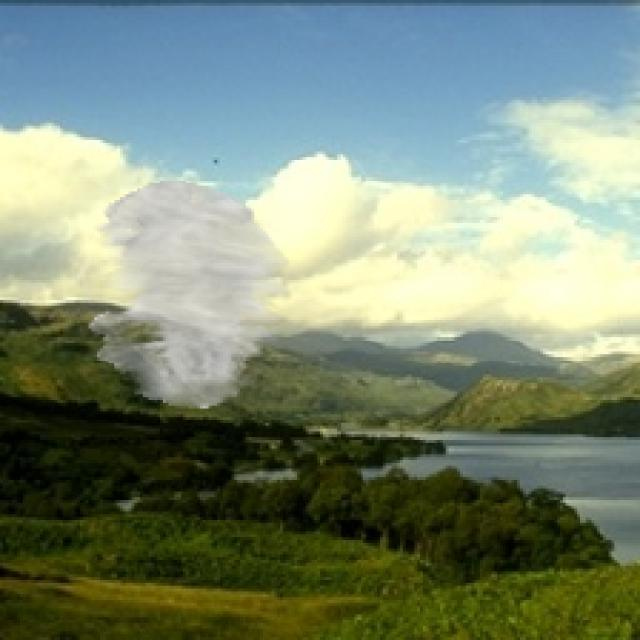Smoke: (88, 180, 292, 409)
